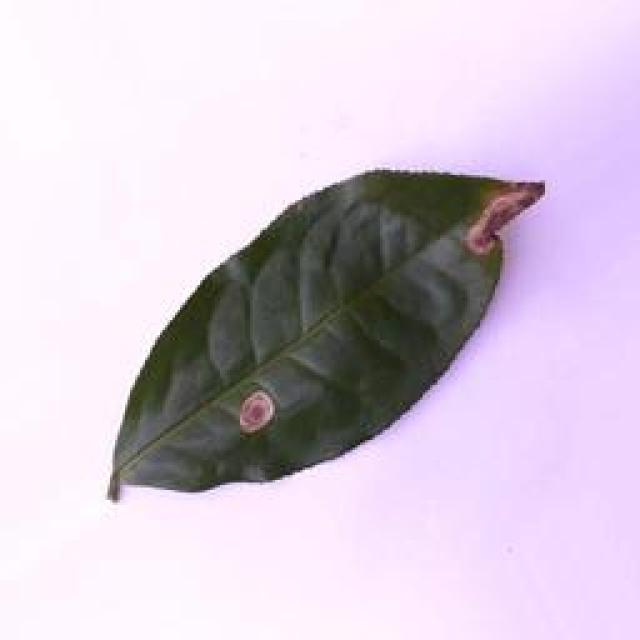Gray Blight: (105, 166, 540, 502)
